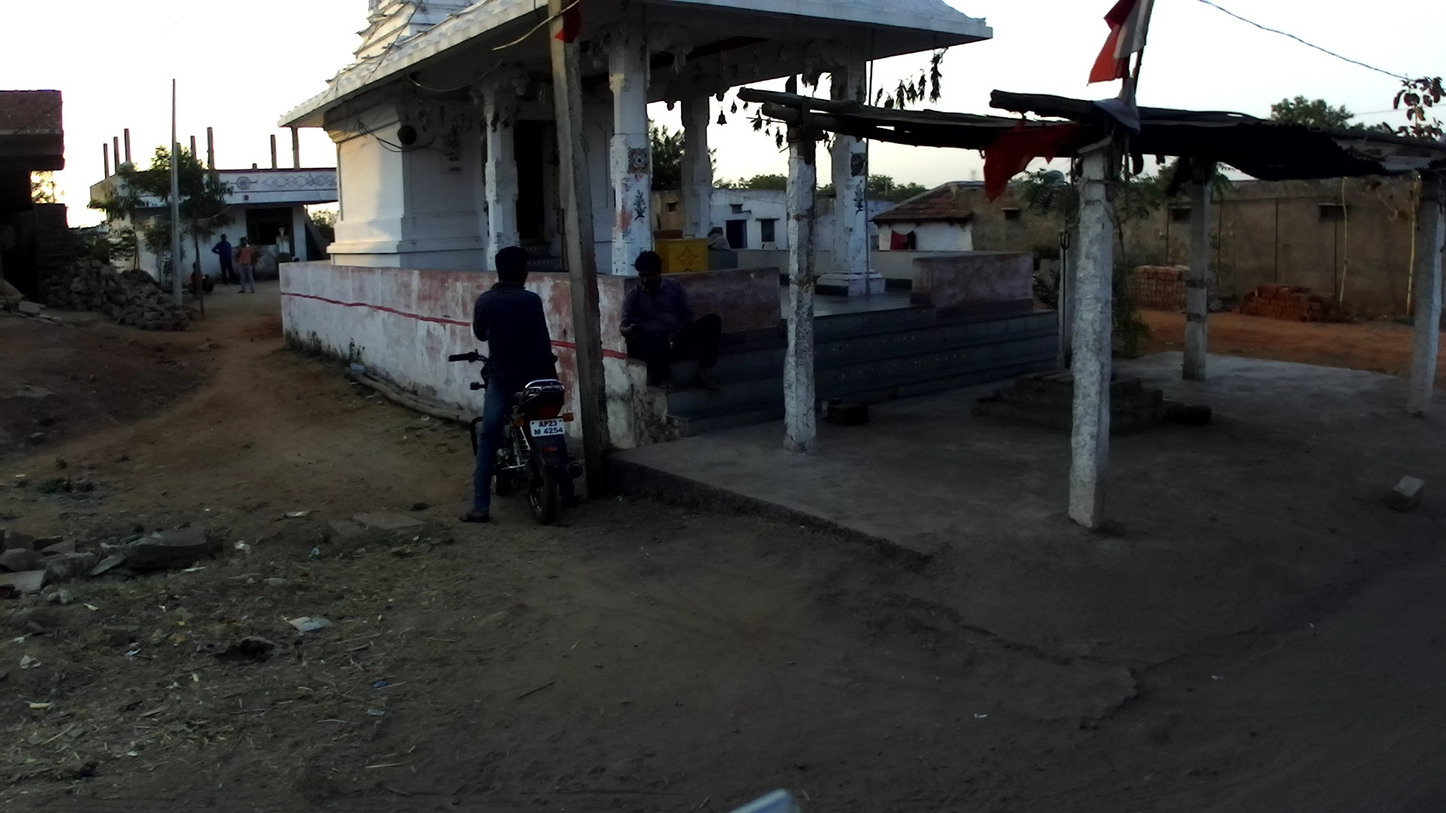motorcycle: (448, 349, 585, 524)
person: (619, 251, 724, 392), (210, 233, 240, 286), (235, 236, 257, 294), (188, 262, 213, 297)
rider: (459, 245, 561, 521)
